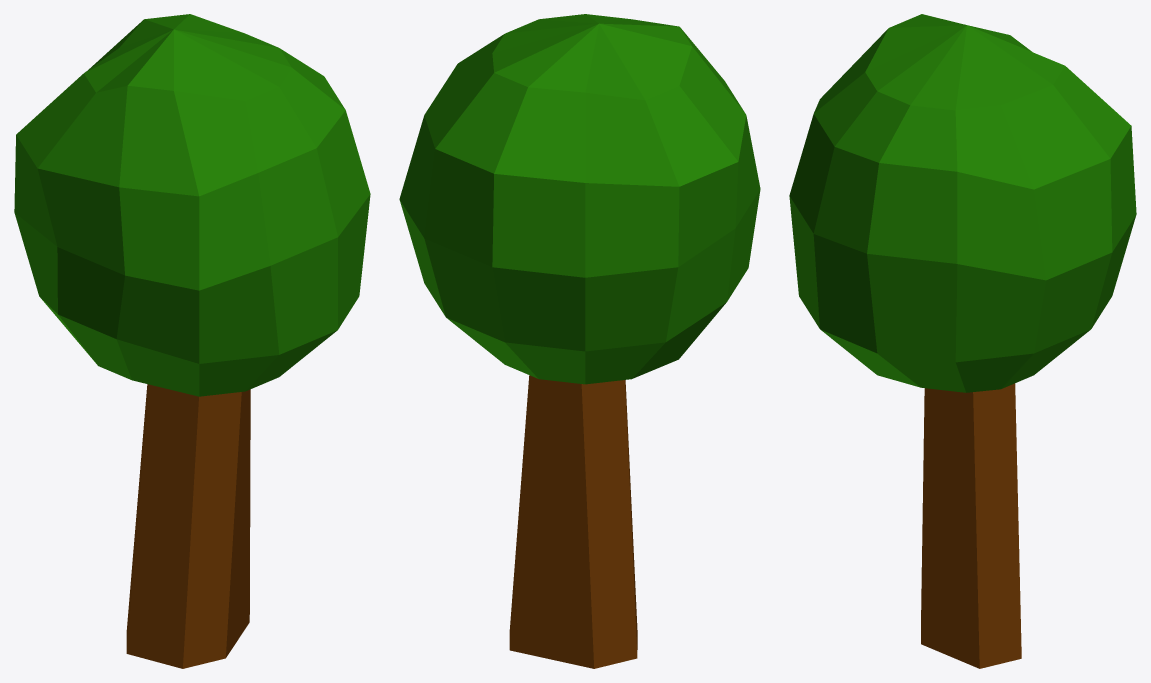
Rendered from tree.fbx.
3 views of the same model, side by side, from view 1: azimuth 30°, elevation 25°; view 2: azimuth 150°, elevation 25°; view 3: azimuth 270°, elevation 25° (orthographic). The views are drawn at different scales.
Visible parts, largest first — view 1: Сфера, Цилиндр; view 2: Сфера, Цилиндр; view 3: Сфера, Цилиндр.
Part boxes in pixels (x1,y1,x2,y2): Сфера: [14, 14, 370, 396]; Цилиндр: [126, 384, 250, 668]; Сфера: [399, 14, 760, 384]; Цилиндр: [509, 375, 637, 668]; Сфера: [789, 14, 1136, 392]; Цилиндр: [921, 383, 1021, 668].
Bounding box in the file's own units: 354 × 688 × 357.
